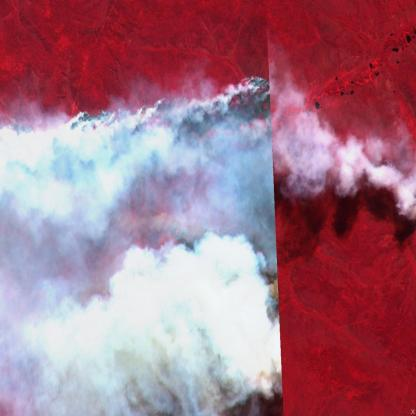fire: (0, 65, 288, 336)
